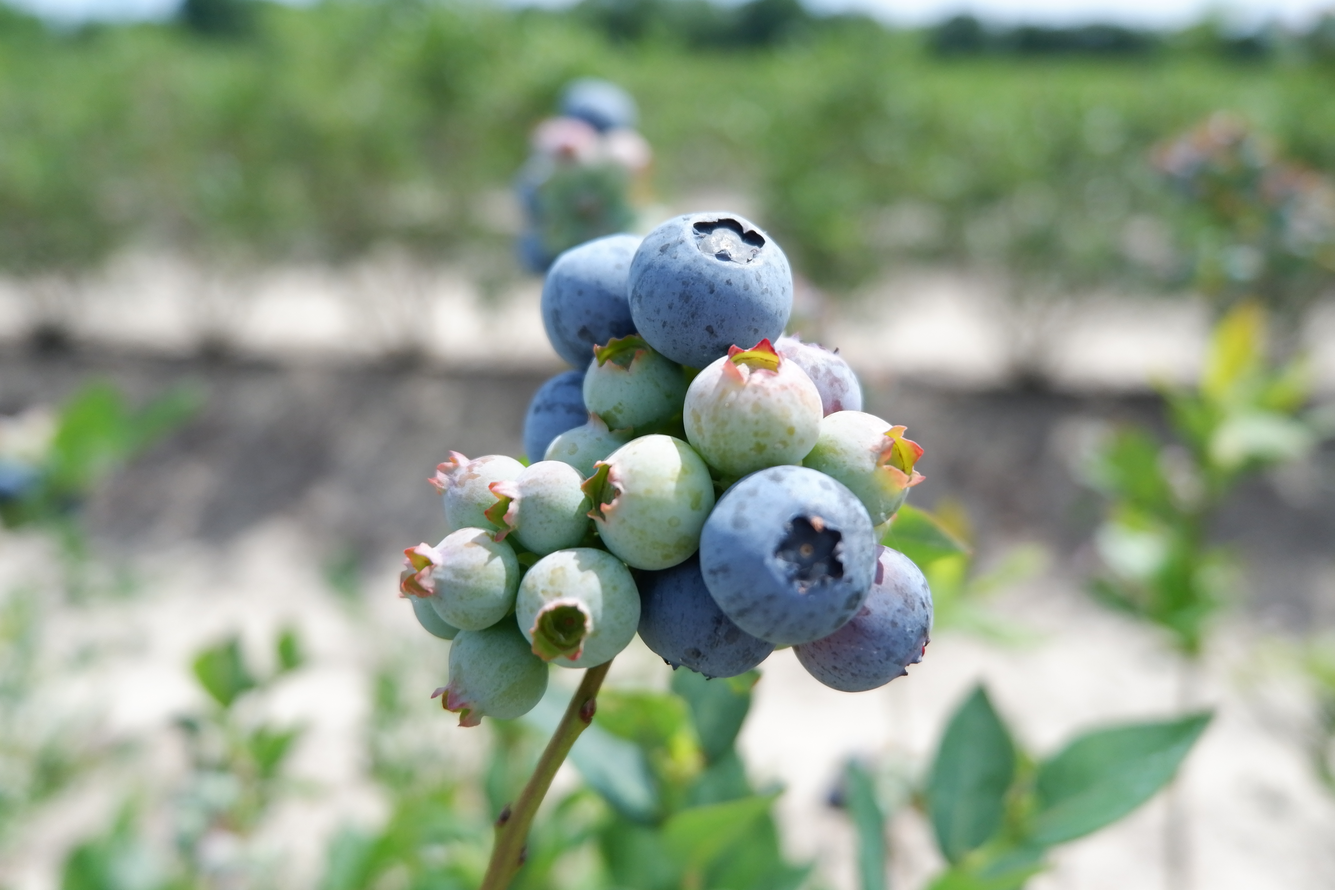Immature: (685, 345, 819, 478), (592, 438, 712, 569), (520, 552, 639, 667), (810, 416, 920, 539), (437, 623, 546, 726), (403, 532, 517, 629), (587, 340, 685, 436), (435, 453, 524, 533), (516, 462, 592, 552), (779, 338, 859, 414), (546, 424, 620, 471), (413, 599, 458, 638)
Mature: (704, 469, 875, 641), (631, 217, 788, 363), (801, 550, 929, 689), (639, 552, 772, 676), (543, 236, 639, 366), (524, 371, 589, 461)
